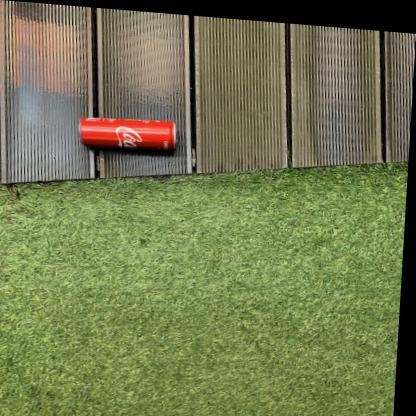trash: (80, 118, 175, 153)
